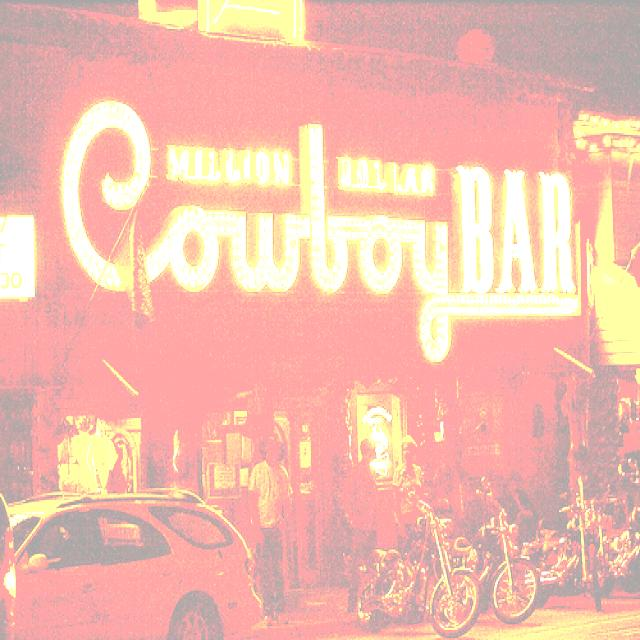Motorbike: (361, 473, 638, 640)
